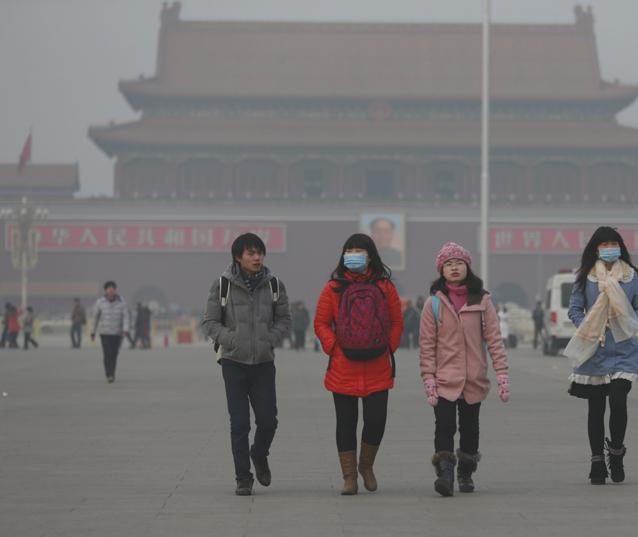car: (539, 263, 622, 357)
person: (313, 232, 406, 497), (417, 242, 512, 497), (201, 231, 292, 497), (564, 224, 637, 486), (89, 279, 130, 382), (68, 295, 86, 349), (1, 302, 19, 349), (21, 305, 39, 350), (134, 300, 151, 346)
